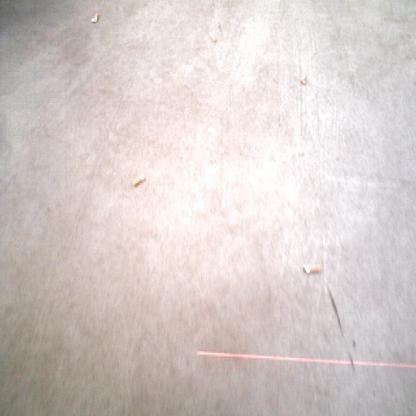dirty: (302, 263, 322, 275), (131, 172, 145, 186), (208, 31, 218, 44), (91, 12, 99, 24), (299, 75, 307, 86)
mark: (326, 284, 344, 335), (347, 339, 356, 373), (277, 116, 281, 128), (218, 23, 222, 34)
